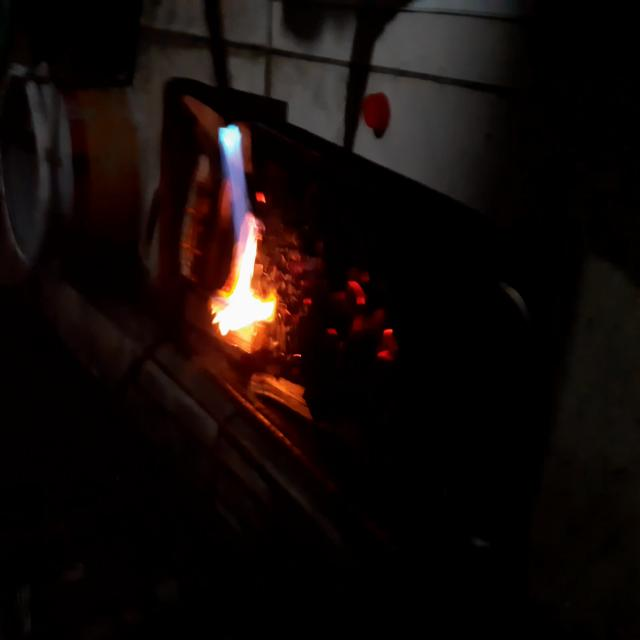Fire: (210, 105, 278, 392), (302, 249, 406, 384)
